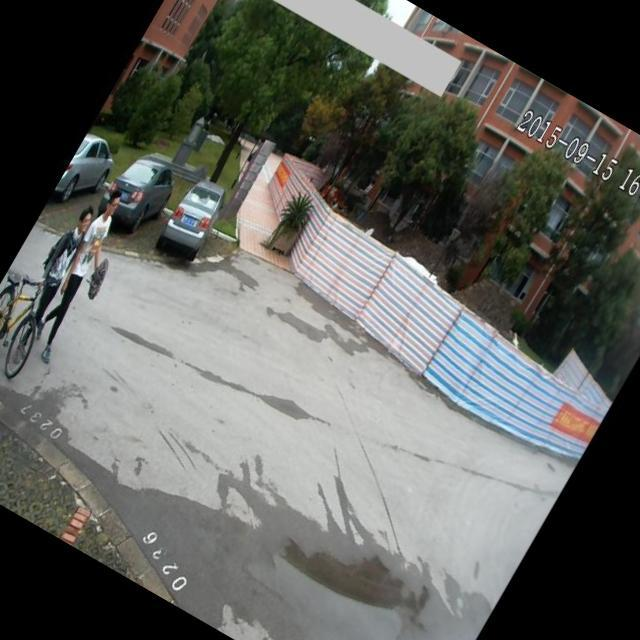person: (33, 182, 144, 344), (21, 196, 102, 312)
